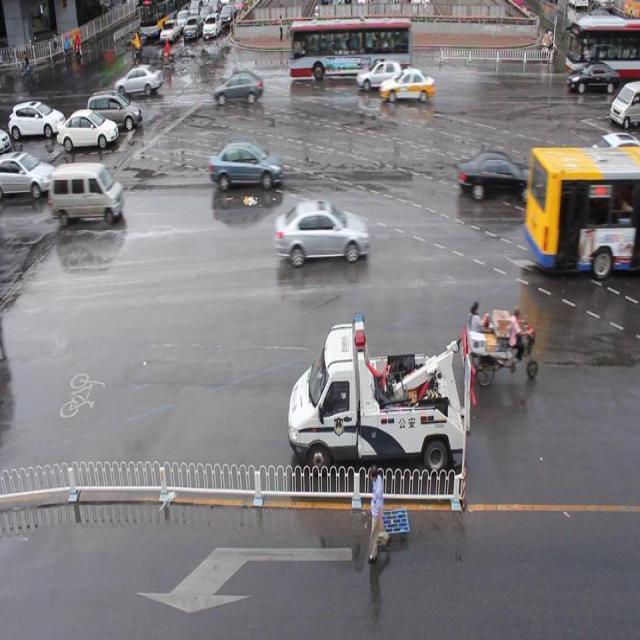car: (274, 199, 369, 264), (208, 140, 282, 191), (458, 150, 532, 198), (378, 64, 434, 104), (585, 131, 640, 171), (212, 71, 263, 106), (566, 62, 618, 94), (355, 59, 403, 92)
truck: (49, 162, 125, 222)
van: (527, 147, 640, 271), (288, 18, 412, 80)
